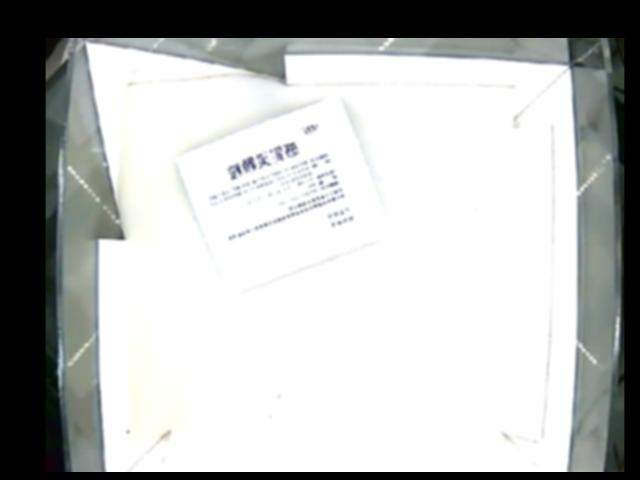Medicine: (172, 94, 390, 291)
